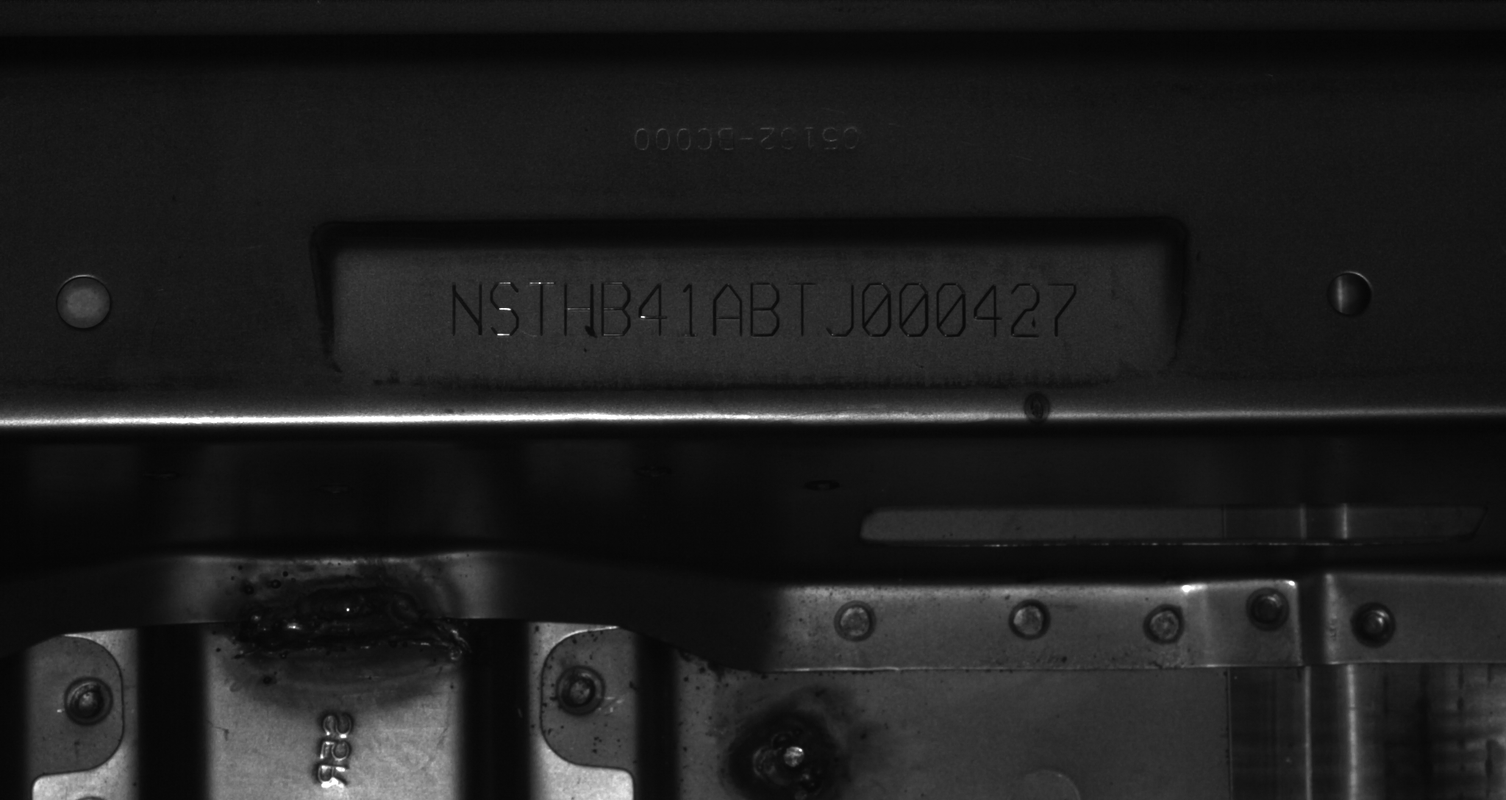bl7m_vin_plate: (338, 245, 1164, 389)
